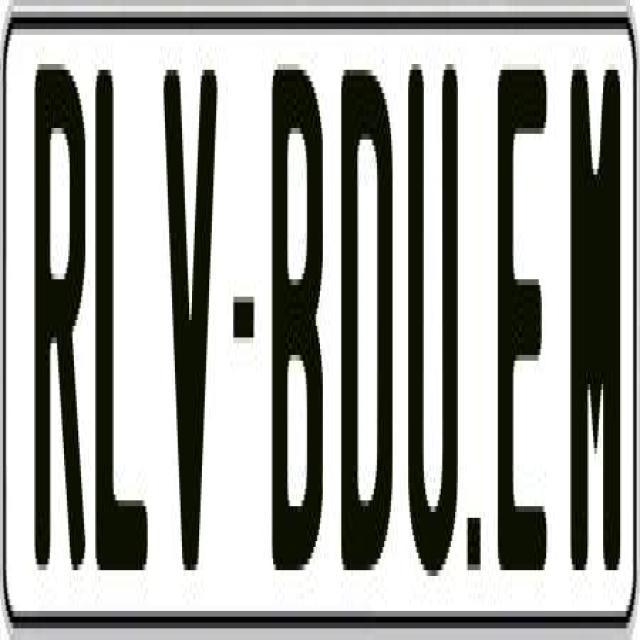B: (272, 53, 332, 571)
D: (340, 58, 397, 570)
E: (496, 64, 552, 588)
L: (93, 70, 145, 576)
M: (566, 59, 614, 565)
R: (33, 52, 90, 582)
U: (408, 52, 460, 582)
V: (164, 64, 226, 600)
